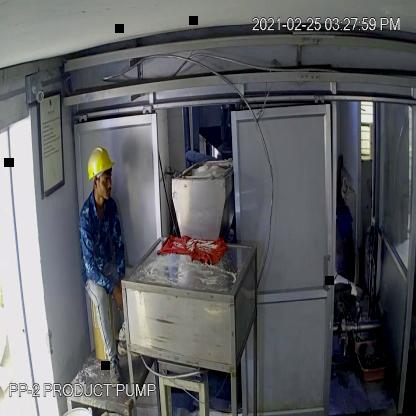helmet: (84, 138, 118, 189)
